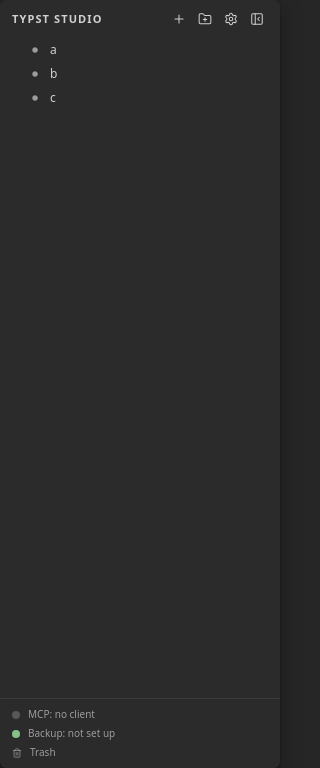
Test case: Sidebar delete menu and dialogs › right-clicking a row outside the selection resets the selection to it
Step 1. Click the button with test id "workspace-a" → (35, 50), box left=8, top=38, right=272, bottom=62
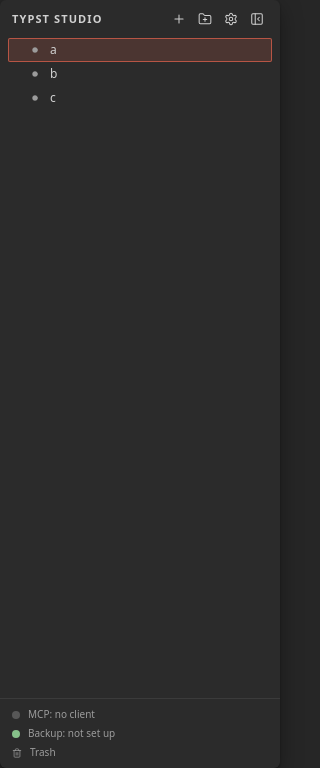
Step 2. Click the button with test id "workspace-b" → (35, 74), box left=8, top=62, right=272, bottom=86
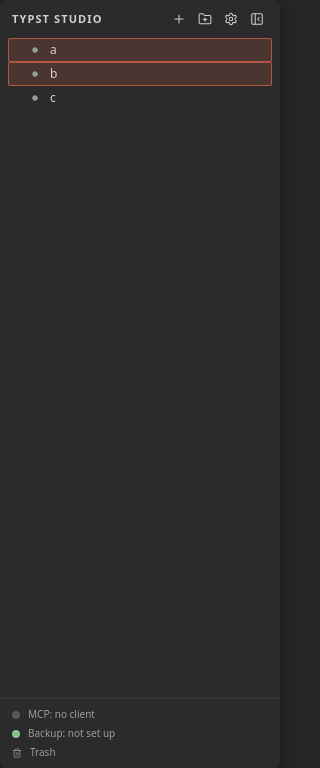
Step 3. Right-click the button with test id "workspace-c" → (35, 98), box left=8, top=86, right=272, bottom=110
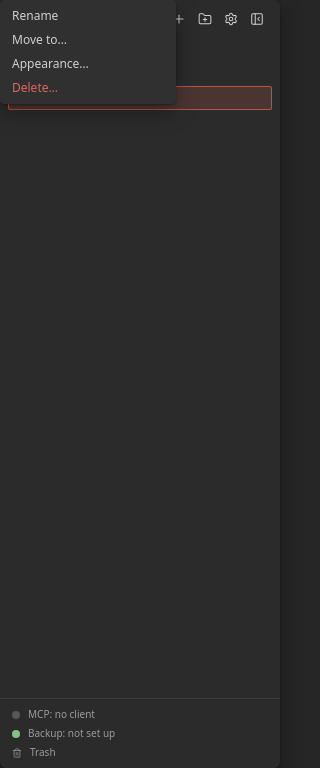
Result: the button "Delete…" is shown at left=4, top=76, right=172, bottom=100
Result: the button "Rename" is shown at left=4, top=4, right=172, bottom=28
